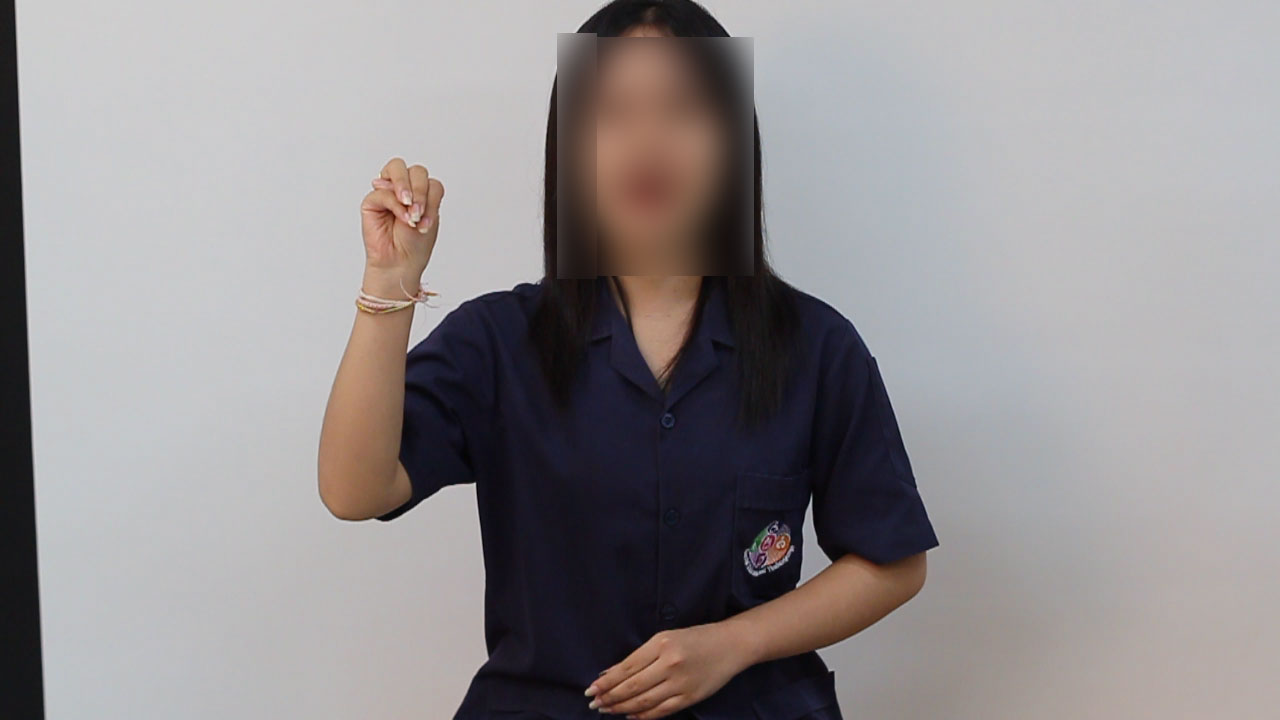mor: (346, 149, 454, 282)
